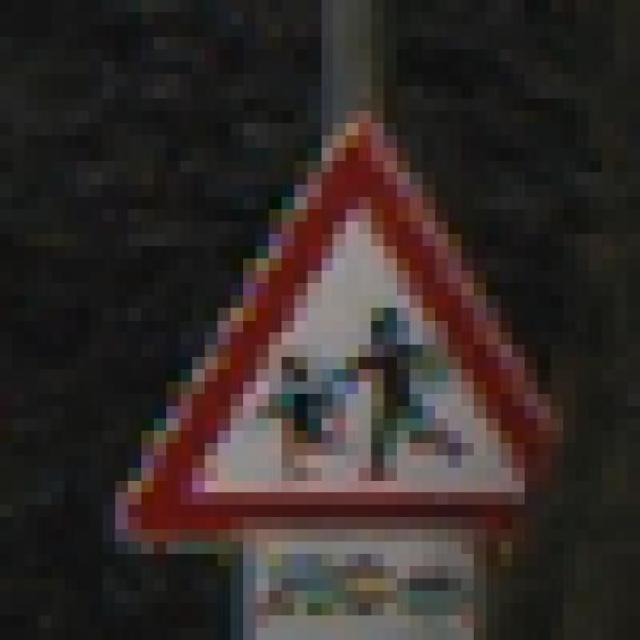Beware of children: (77, 111, 601, 566)
